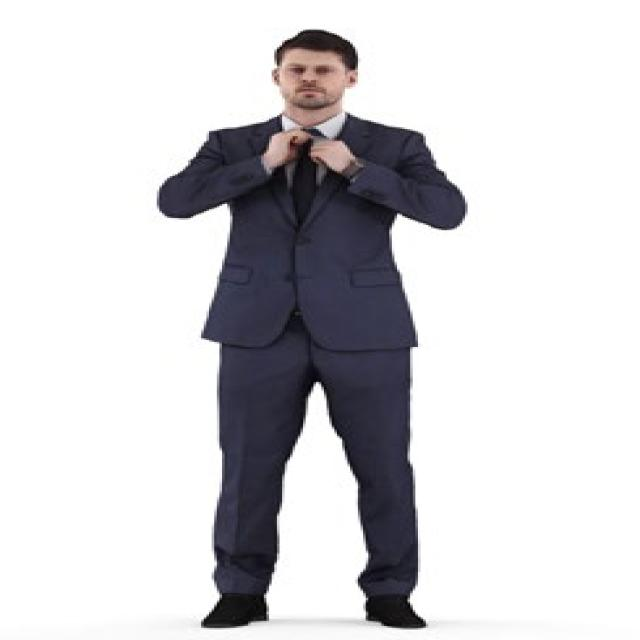standing: (152, 24, 473, 632)
